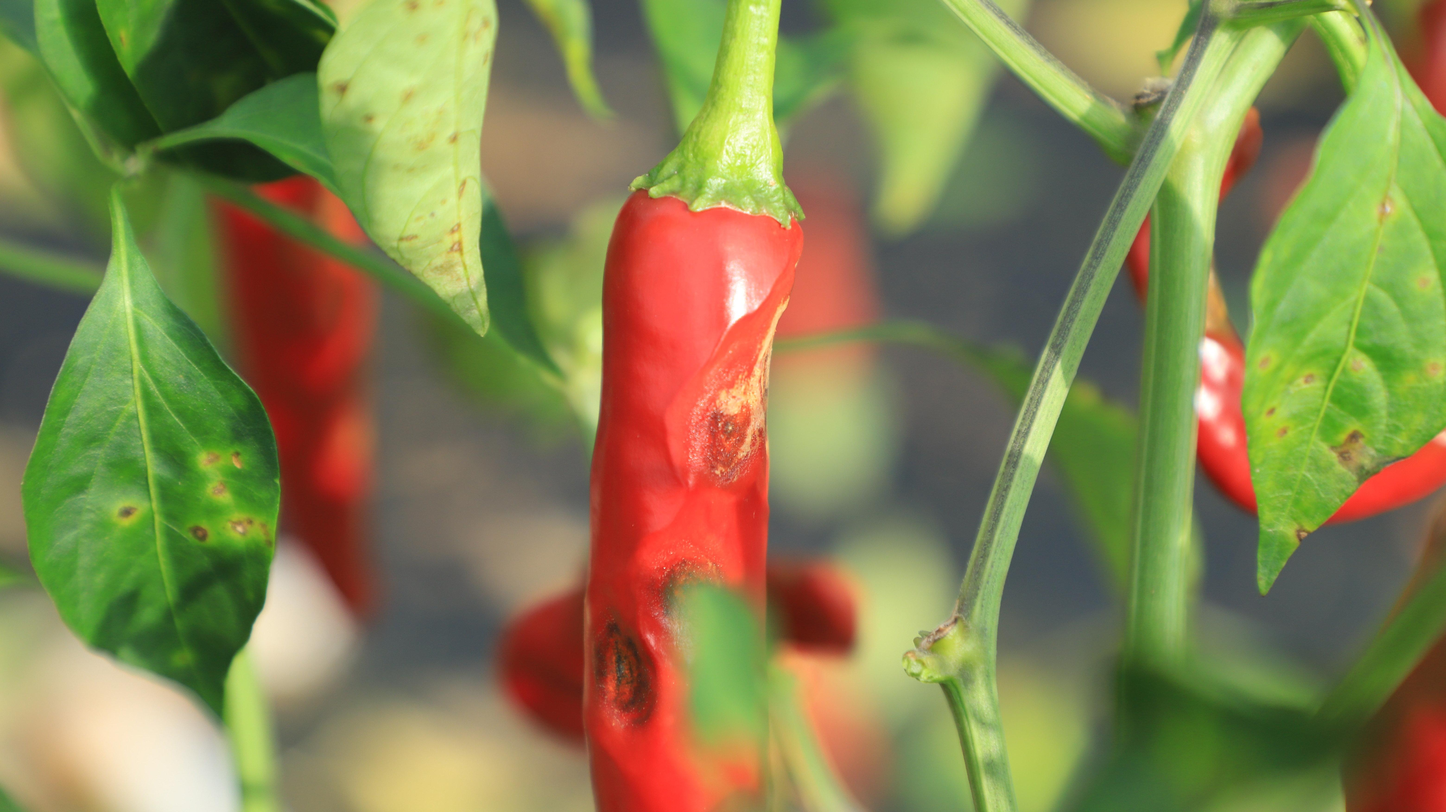Bercak Daun Serkospora: (19, 172, 289, 732), (1240, 56, 1446, 616)
Busuk Buah Antraknosa: (578, 2, 810, 808)
